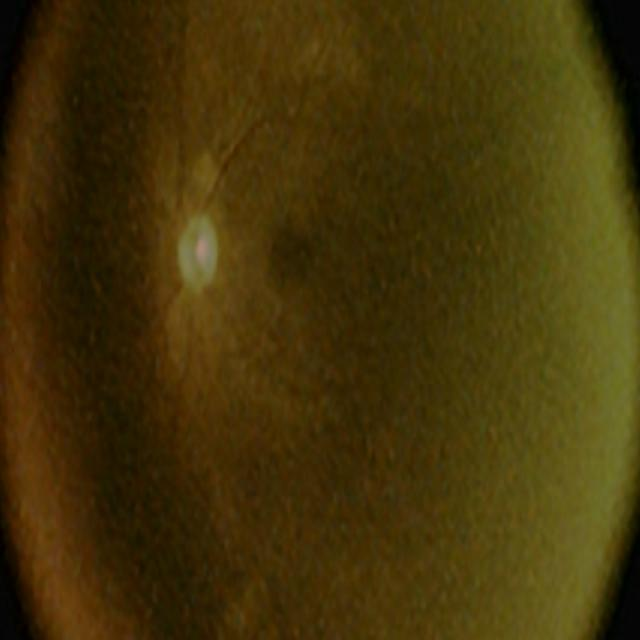optic-nerve: (150, 182, 242, 358)
